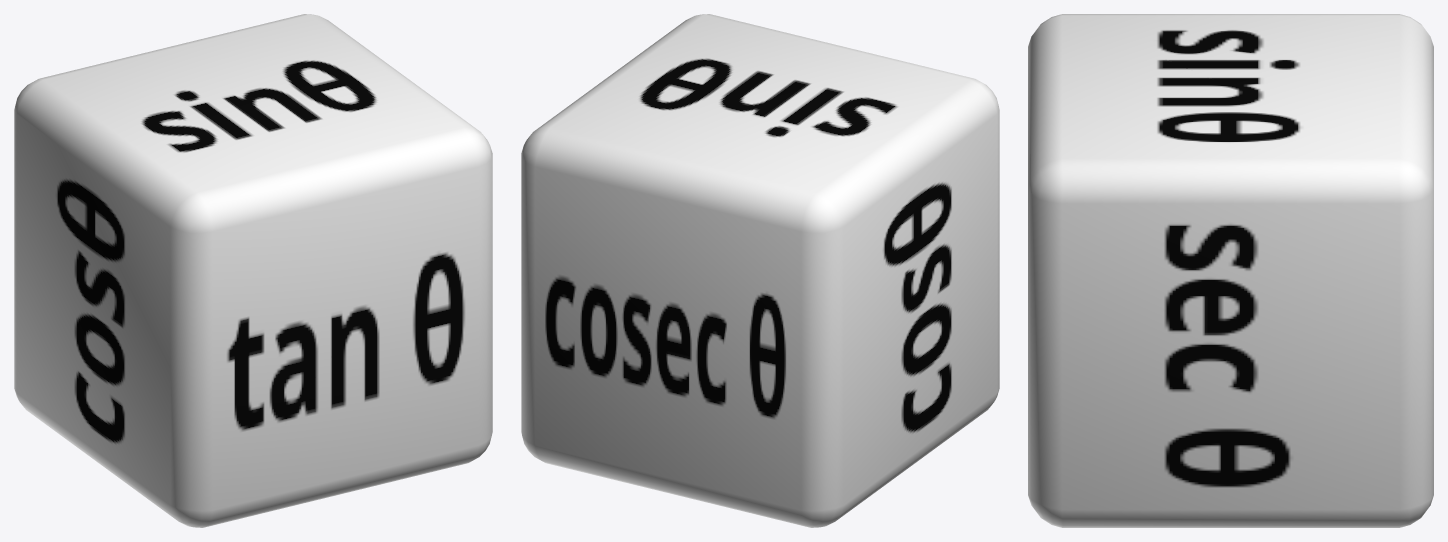
The model's file is dice_angle.fbx.
The picture shows the model from 3 angles, left to right: view 1: azimuth 30°, elevation 25°; view 2: azimuth 150°, elevation 25°; view 3: azimuth 270°, elevation 25°; orthographic projection. The views are drawn at different scales.
Visible parts, largest first — view 1: Roundcube.001; view 2: Roundcube.001; view 3: Roundcube.001.
Boxes of the visible parts, left/top/right/bottom form: Roundcube.001: left=14, top=14, right=492, bottom=527; Roundcube.001: left=521, top=14, right=999, bottom=527; Roundcube.001: left=1028, top=14, right=1433, bottom=527.
Size of the model in its own units: 287 by 287 by 287.
1 material, 1 textured.
